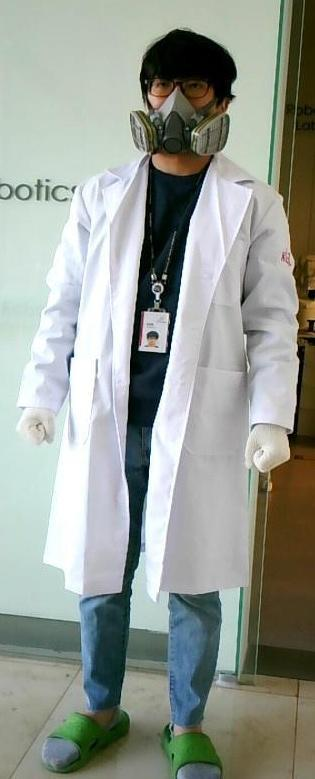lab_coat: (55, 180, 259, 591)
